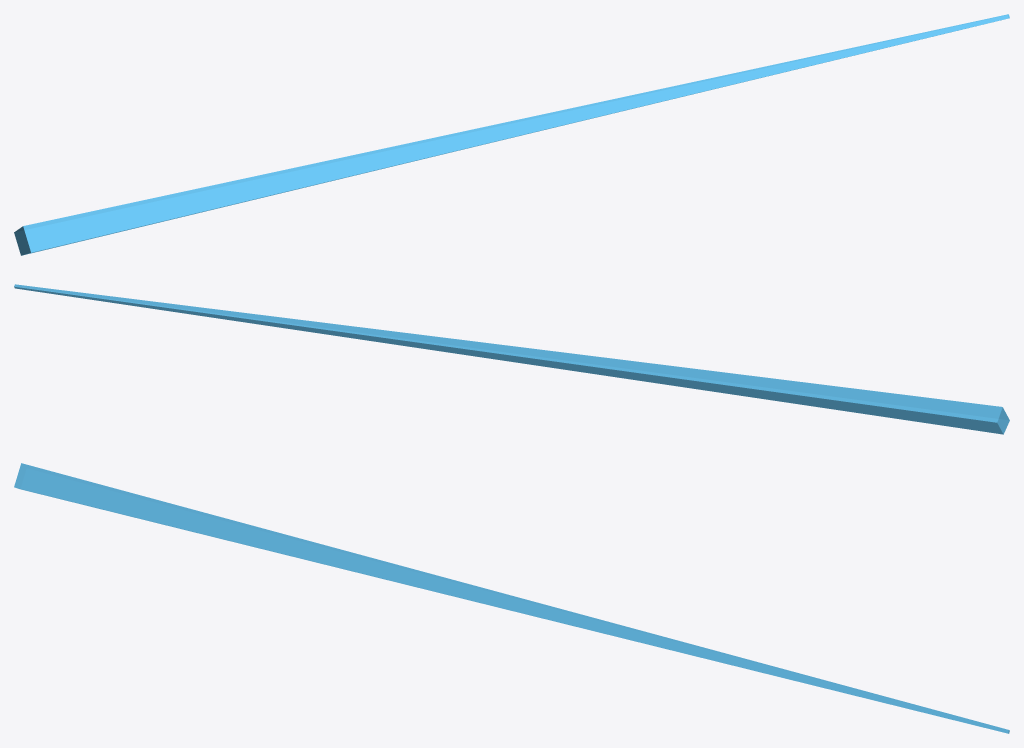
File: Event_420604493_HErechit_17.fbx
3 renders of one model, top to bottom at view 1: azimuth 30°, elevation 25°; view 2: azimuth 150°, elevation 25°; view 3: azimuth 330°, elevation 25°, orthographic. The views are drawn at different scales.
Visible parts, largest first — view 1: Model; view 2: Model; view 3: Model.
Part boxes in pixels (x1=…): Model: x1=14, y1=14, x2=1009, y2=255; Model: x1=14, y1=284, x2=1009, y2=434; Model: x1=14, y1=463, x2=1009, y2=733.
Size of the model in its own units: 57.91 by 4.47 by 5.93.
